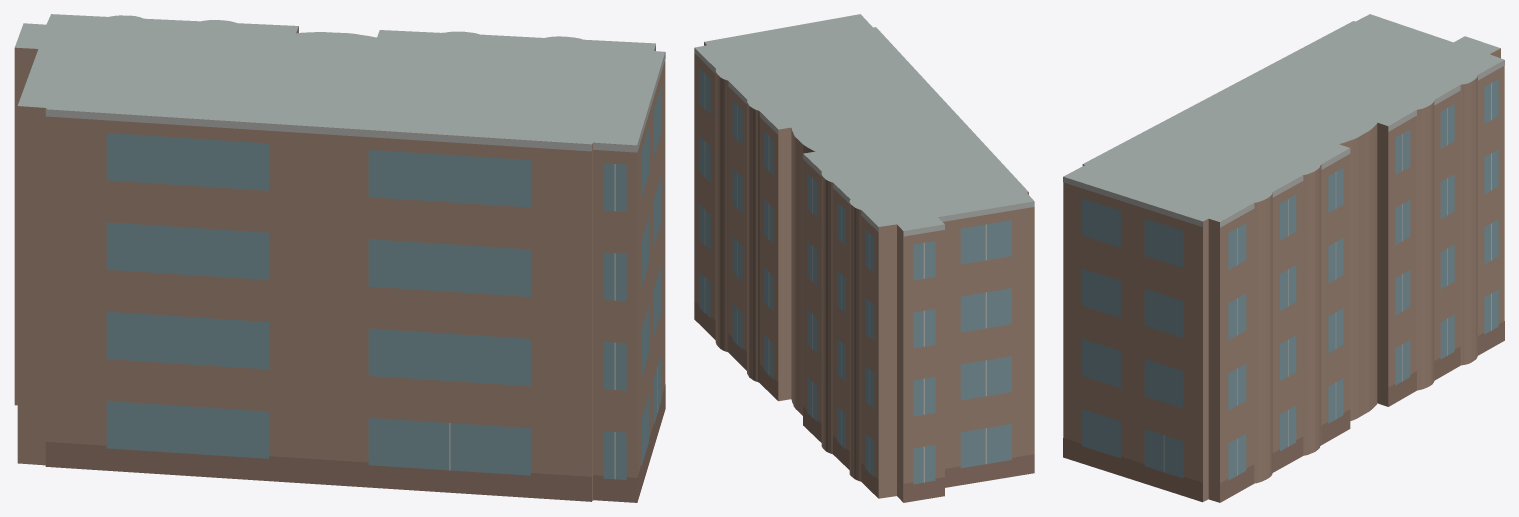
The model's file is survey-upis-32645028.glb.
3 renders of one model, left to right at view 1: azimuth 30°, elevation 25°; view 2: azimuth 150°, elevation 25°; view 3: azimuth 270°, elevation 25°, orthographic. The views are drawn at different scales.
Visible parts, largest first — view 1: survey-upis-32645028.tmp; view 2: survey-upis-32645028.tmp; view 3: survey-upis-32645028.tmp.
Boxes of the visible parts, bbox=[...] form: survey-upis-32645028.tmp: bbox=[14, 14, 665, 502]; survey-upis-32645028.tmp: bbox=[694, 14, 1034, 502]; survey-upis-32645028.tmp: bbox=[1063, 14, 1504, 502].
Size of the model in its own units: 19.41 by 12.2 by 17.4.
